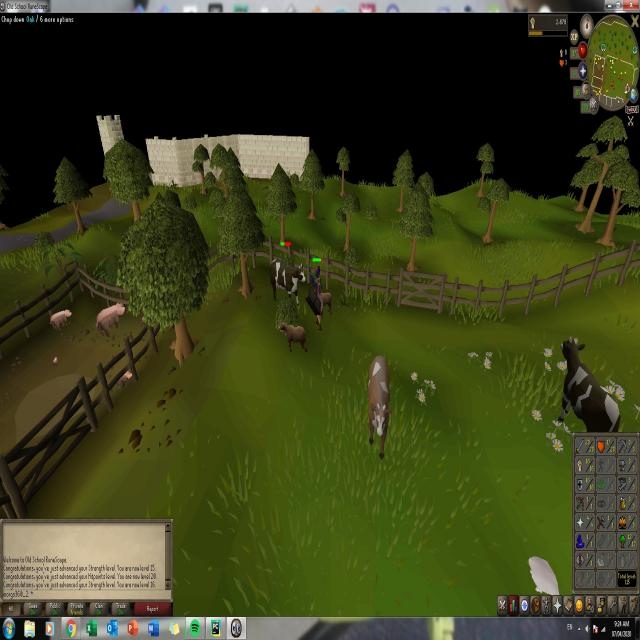cow: (555, 334, 625, 432), (365, 352, 392, 464), (266, 256, 306, 310)
